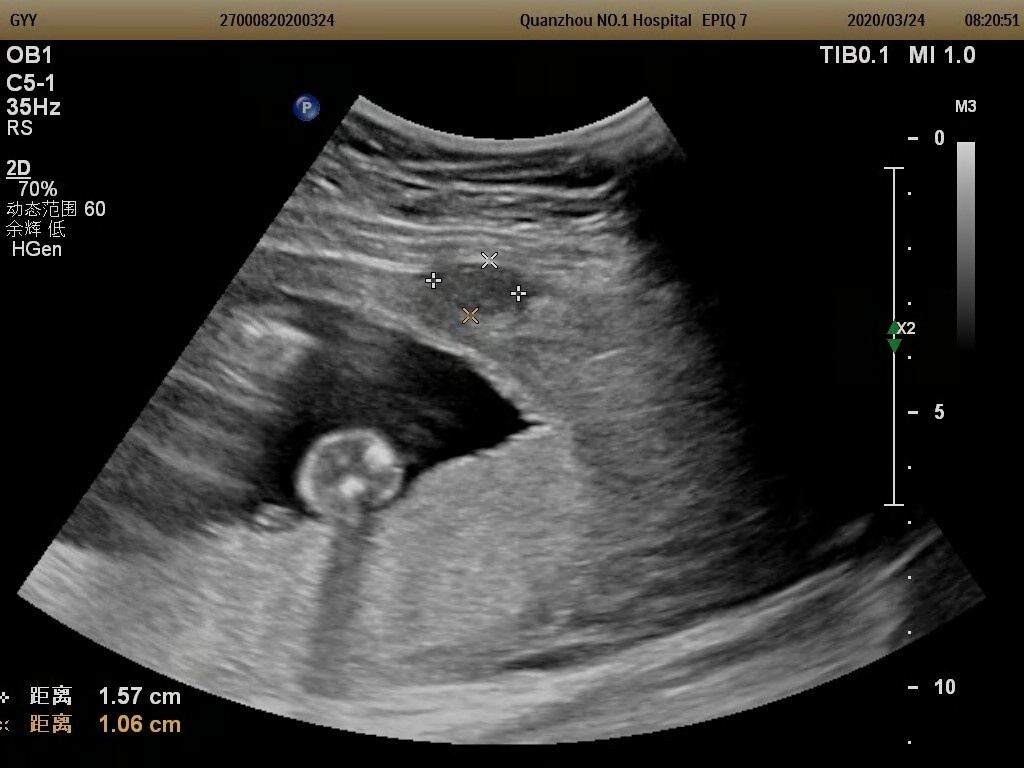肌瘤: (433, 259, 522, 316)
